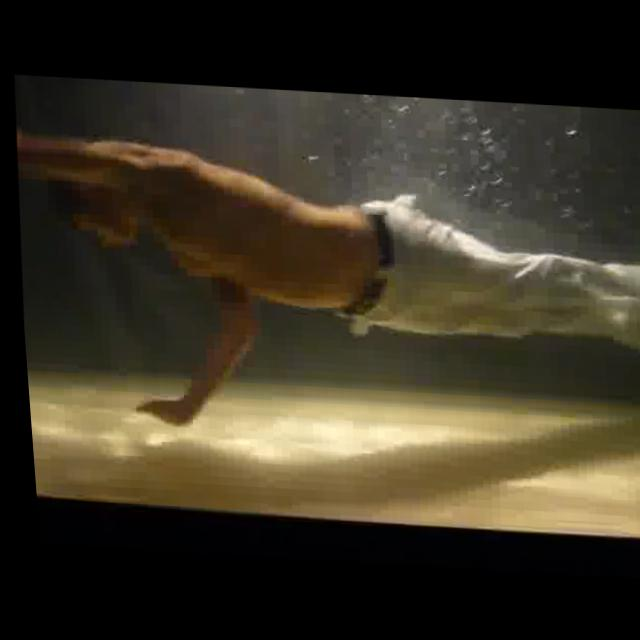human: (7, 118, 640, 454)
